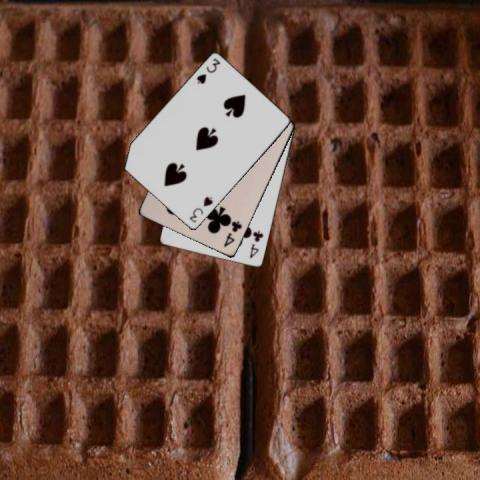3s: (186, 194, 215, 225), (194, 55, 222, 86)
4c: (221, 218, 243, 249), (246, 228, 265, 260)
